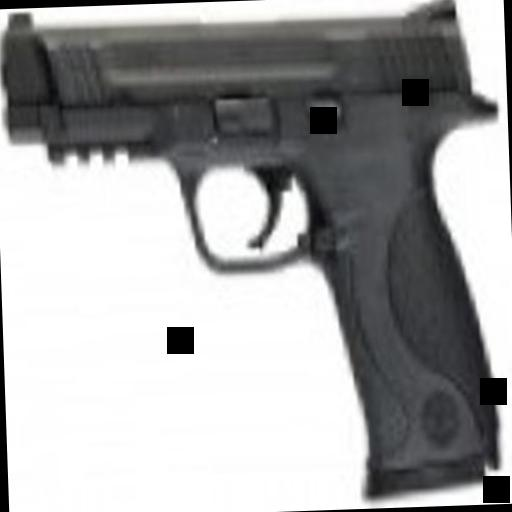Handgun: (6, 0, 499, 512)
